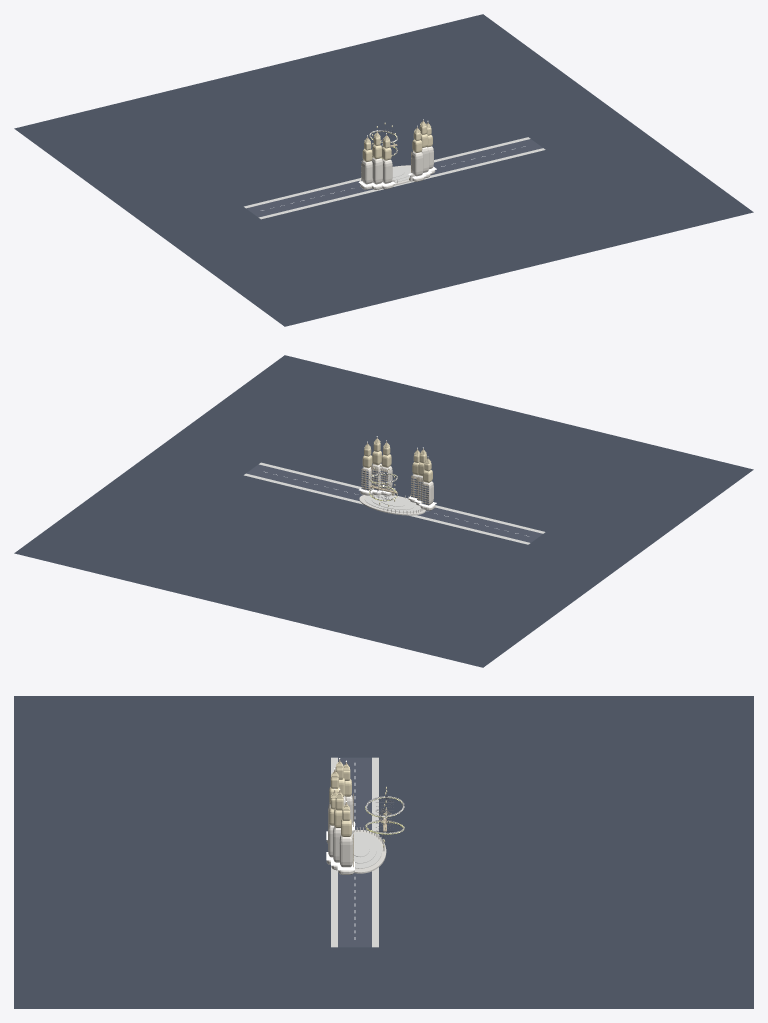
File: studio-v5.glb
3 renders of one model, top to bottom at view 1: azimuth 30°, elevation 25°; view 2: azimuth 150°, elevation 25°; view 3: azimuth 270°, elevation 25°, orthographic. The views are drawn at different scales.
Parts seen in each view (by area): view 1: Ground, Avenue, Sidewalk_-1, Sidewalk_1; view 2: Ground, Avenue, Sidewalk_1, Sidewalk_-1; view 3: Ground, Avenue, Sidewalk_1, Sidewalk_-1.
Boxes of the visible parts, x1,y1,x2,y2 form: Ground: (14, 14, 753, 326); Avenue: (246, 139, 542, 217); Sidewalk_-1: (258, 148, 545, 219); Sidewalk_1: (244, 137, 530, 208); Ground: (14, 355, 753, 667); Avenue: (246, 464, 542, 542); Sidewalk_1: (244, 473, 530, 544); Sidewalk_-1: (259, 462, 545, 533); Ground: (14, 696, 753, 1008); Avenue: (338, 757, 371, 947); Sidewalk_1: (372, 757, 378, 947); Sidewalk_-1: (331, 757, 337, 947).
Size of the model in its own units: 560 by 66 by 560.
